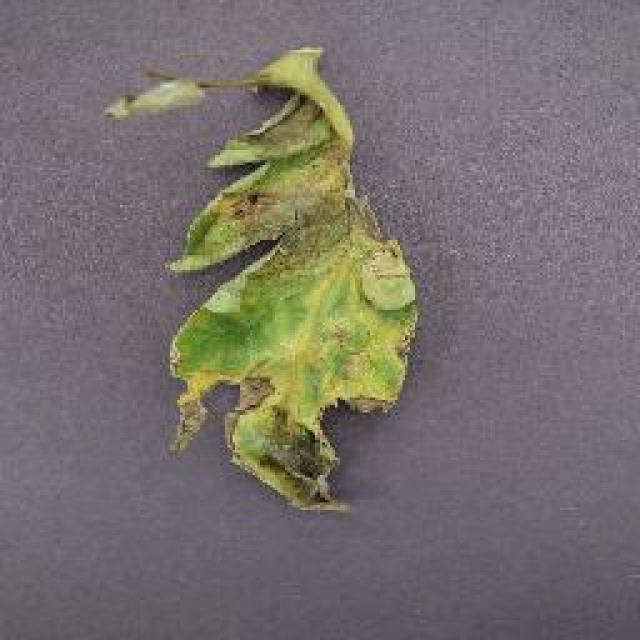Tomato late blight leaf: (105, 39, 415, 508)
